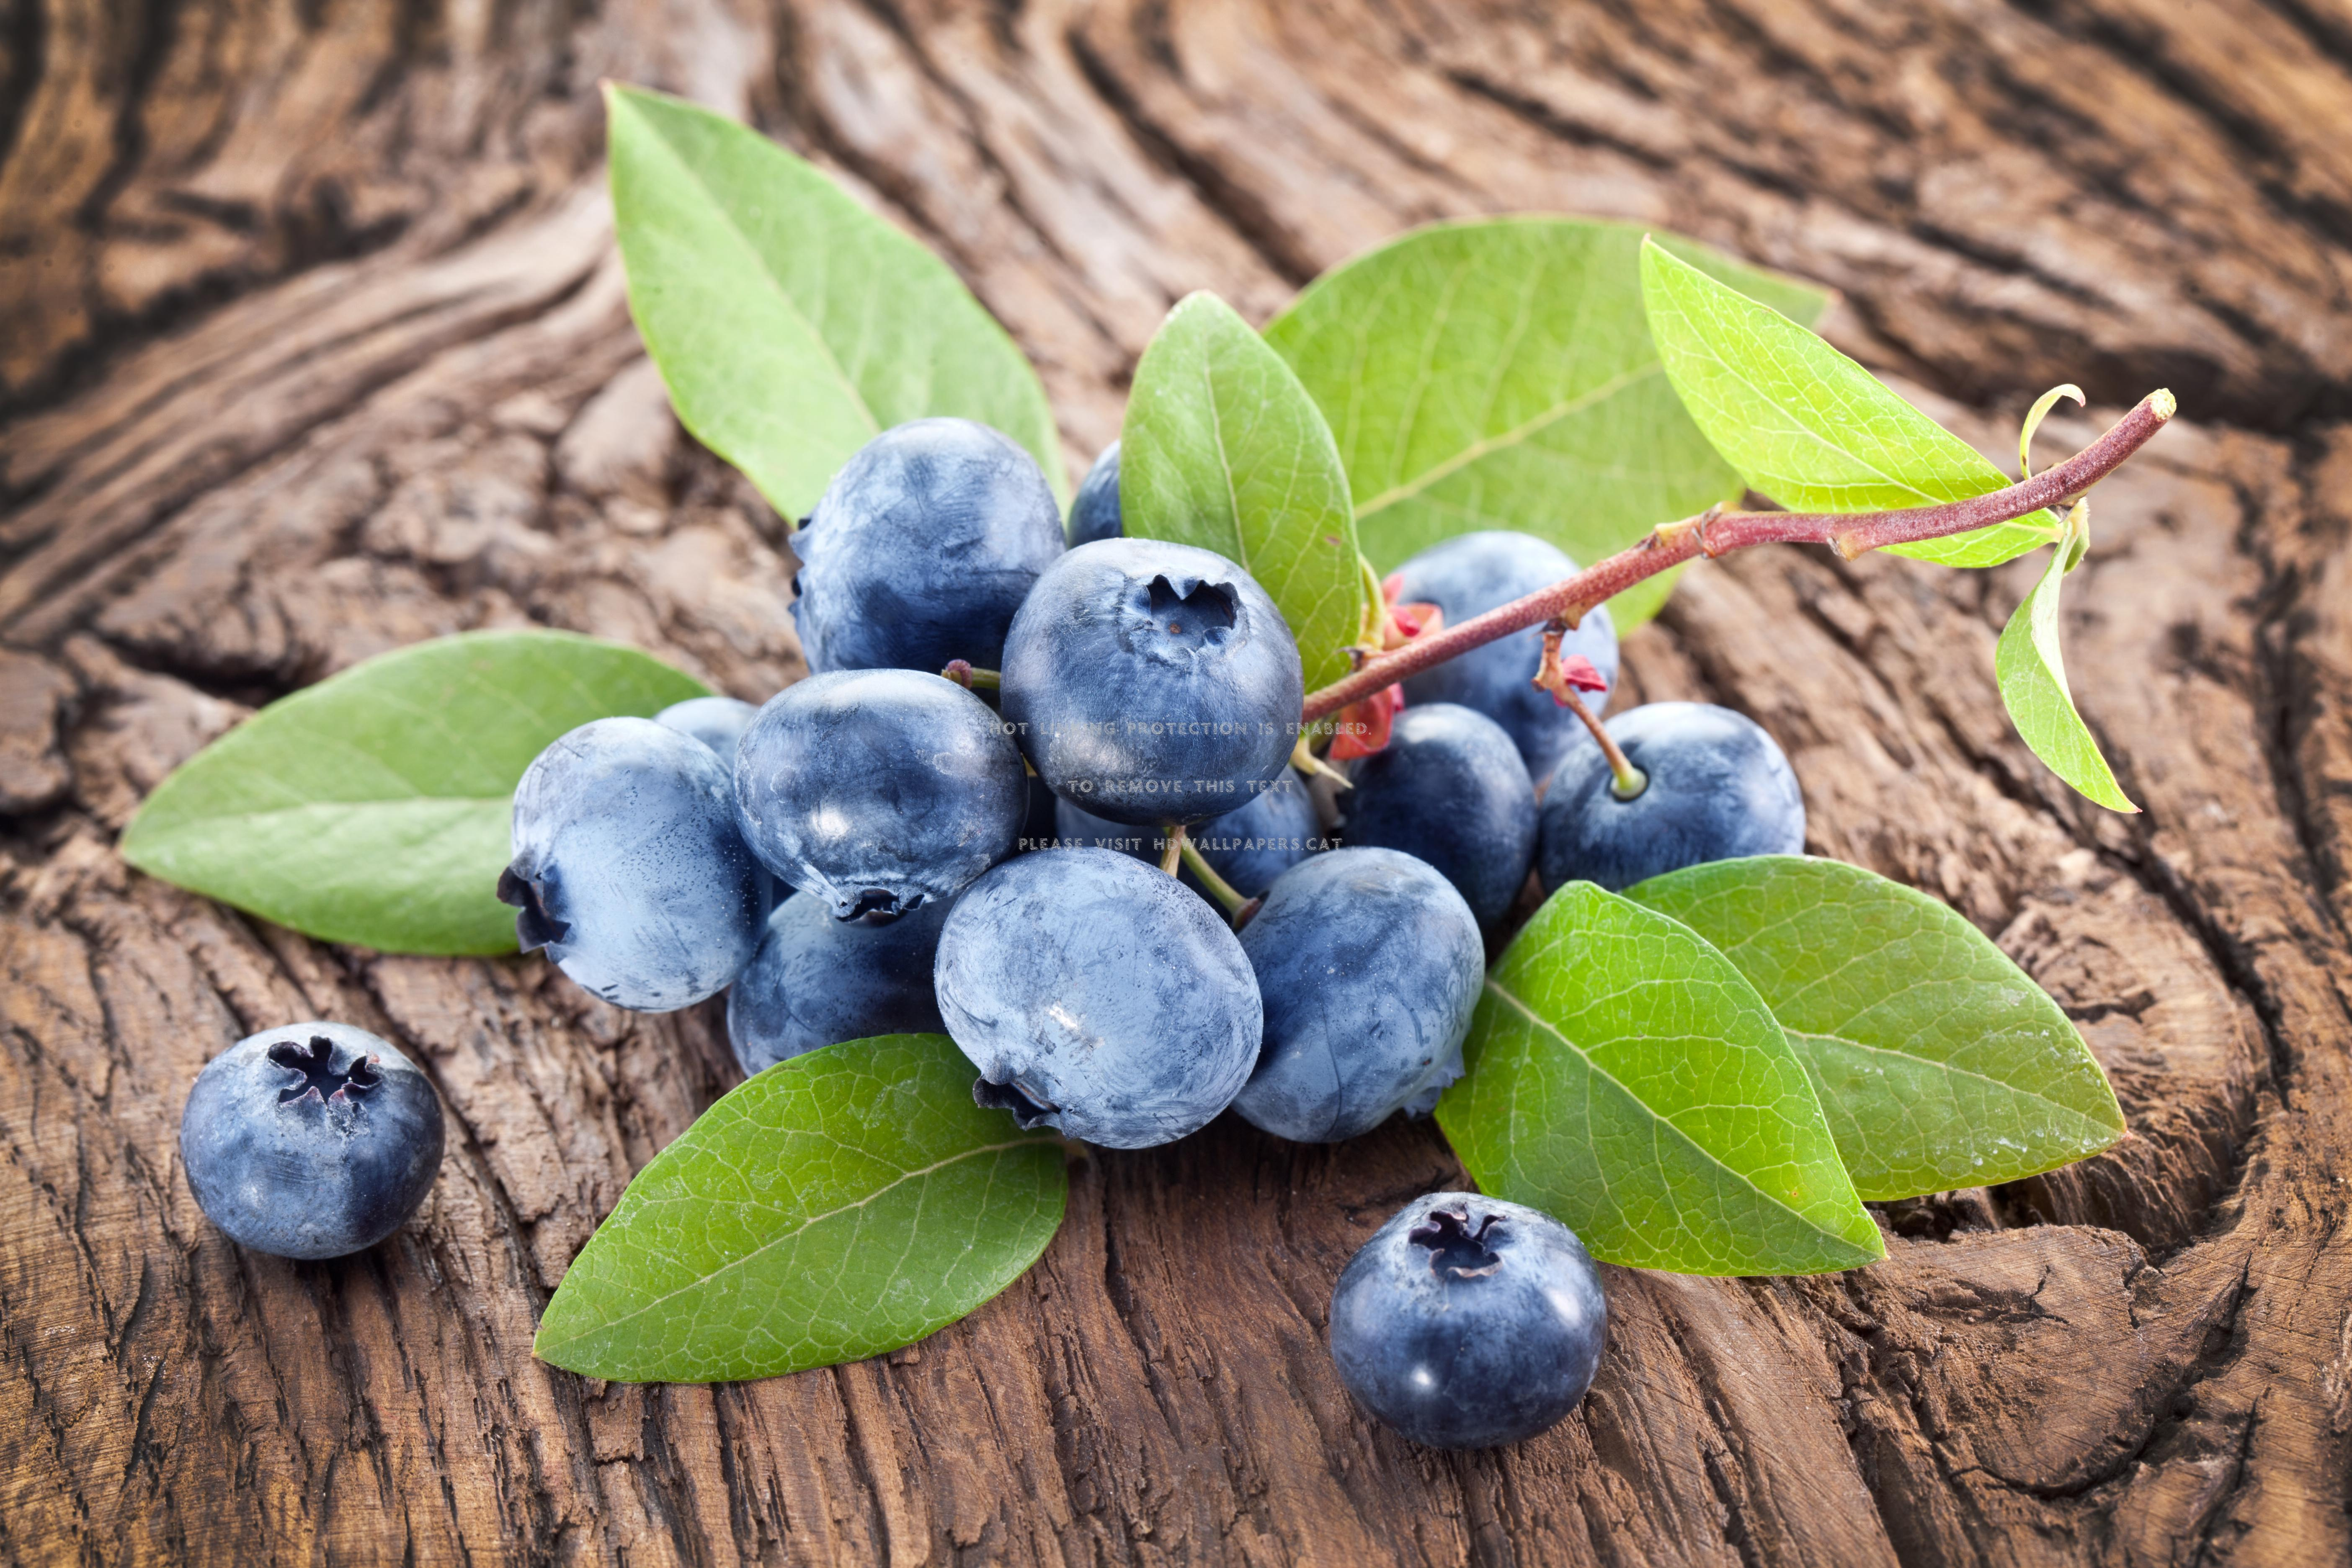Blueberry leaf: (1452, 809, 2243, 1346), (126, 606, 770, 962), (527, 1019, 1094, 1418)
